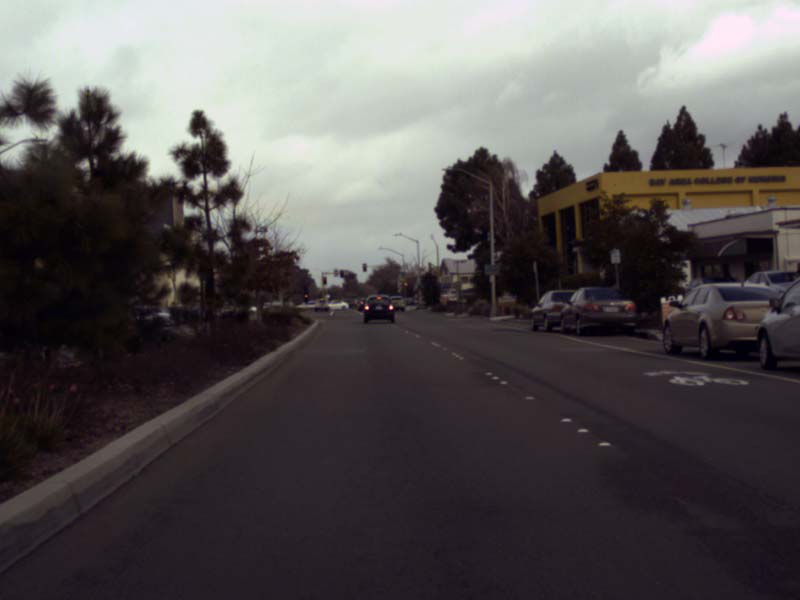Red: (403, 282, 408, 291), (304, 291, 308, 302), (362, 263, 366, 272), (322, 276, 326, 284), (339, 270, 343, 277)
